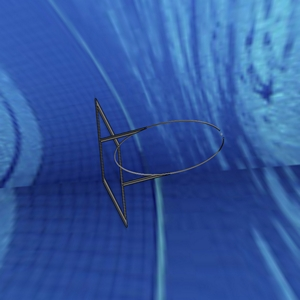circle: (89, 96, 226, 228)
